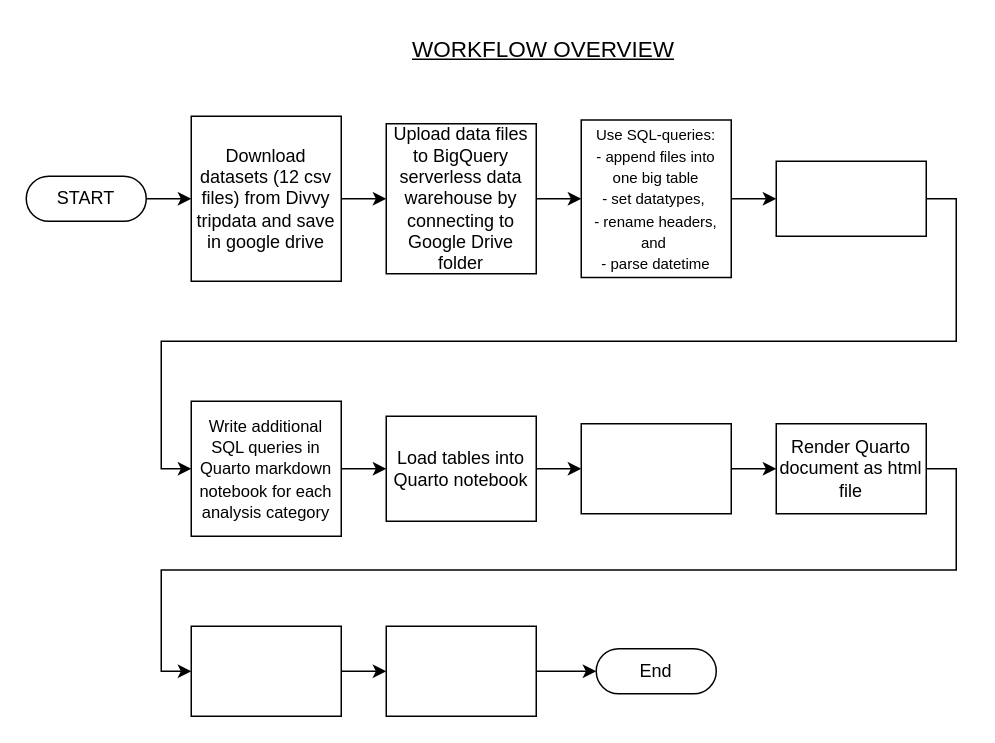
The diagram is 995 pixels wide and 743 high, and some of its shapes have lost their labels. Each missing label, with the centre of its shape:
"Create visualizations using R in Quarto notebook" belongs at (655,468).
"Link and summerize project in porfolio website" belongs at (460,670).
"Publish in github repository" belongs at (265,670).
"Save as separate table in BigQuery" belongs at (850,198).
